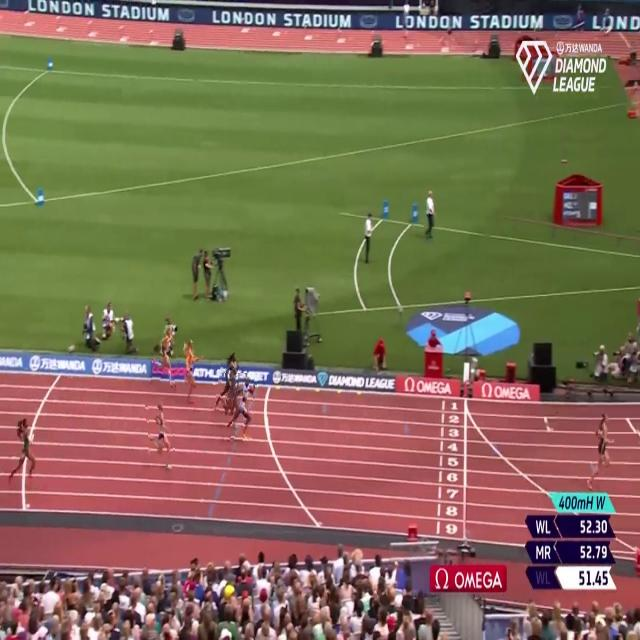athlete: (9, 408, 37, 494), (153, 320, 180, 388), (147, 398, 175, 462), (216, 344, 240, 416), (232, 374, 256, 444), (185, 329, 202, 409)
